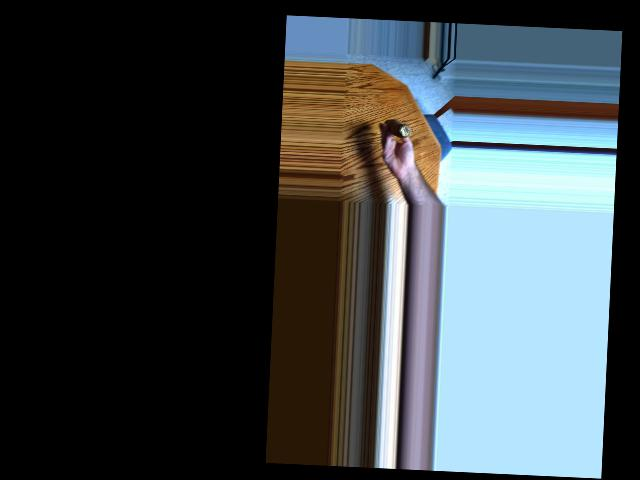sweet_potato: (382, 118, 415, 143)
